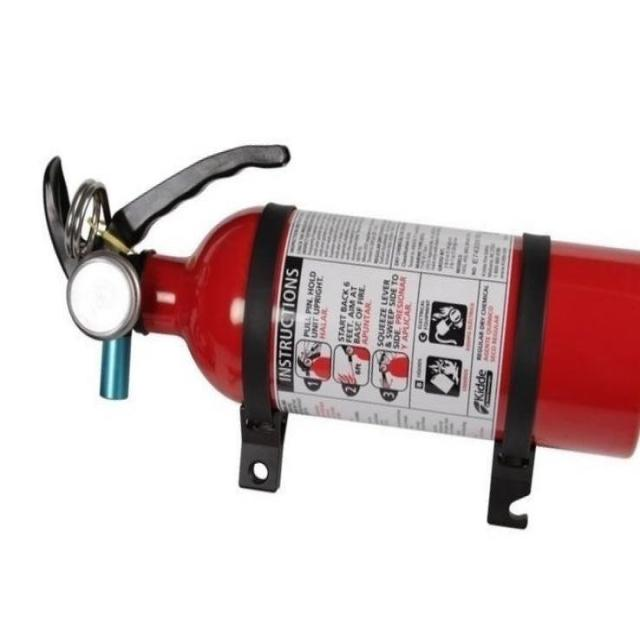fire_extinguisher: (35, 135, 639, 468)
